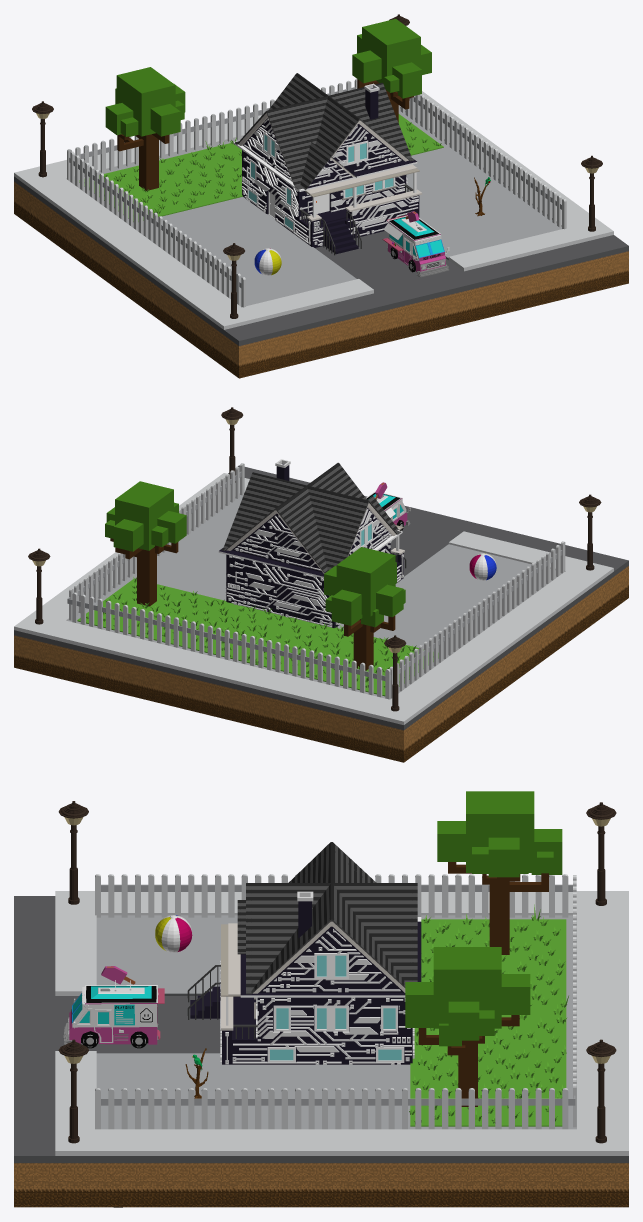
3 renders of one model, top to bottom at view 1: azimuth 30°, elevation 25°; view 2: azimuth 150°, elevation 25°; view 3: azimuth 270°, elevation 25°, orthographic. The views are drawn at different scales.
Parts seen in each view (by area): view 1: Cube.004, Cube.918, VEHICLES_ICE_CREAM_TRUCK, OBJRANDOM_BEACHBALL; view 2: Cube.004, Cube.918, VEHICLES_ICE_CREAM_TRUCK, OBJRANDOM_BEACHBALL; view 3: Cube.004, Cube.918, VEHICLES_ICE_CREAM_TRUCK, OBJRANDOM_BEACHBALL.
Boxes of the visible parts, bbox=[...] form: Cube.004: bbox=[14, 14, 628, 378]; Cube.918: bbox=[233, 73, 422, 255]; VEHICLES_ICE_CREAM_TRUCK: bbox=[382, 211, 449, 277]; OBJRANDOM_BEACHBALL: bbox=[254, 248, 281, 275]; Cube.004: bbox=[14, 407, 628, 762]; Cube.918: bbox=[218, 459, 406, 627]; VEHICLES_ICE_CREAM_TRUCK: bbox=[366, 482, 410, 530]; OBJRANDOM_BEACHBALL: bbox=[469, 553, 496, 580]; Cube.004: bbox=[14, 791, 628, 1207]; Cube.918: bbox=[187, 842, 421, 1064]; VEHICLES_ICE_CREAM_TRUCK: bbox=[63, 966, 164, 1048]; OBJRANDOM_BEACHBALL: bbox=[155, 915, 192, 952].
Size of the model in its own units: 4000 by 1574 by 4000.
Materials: 45 (3 with a texture image).
